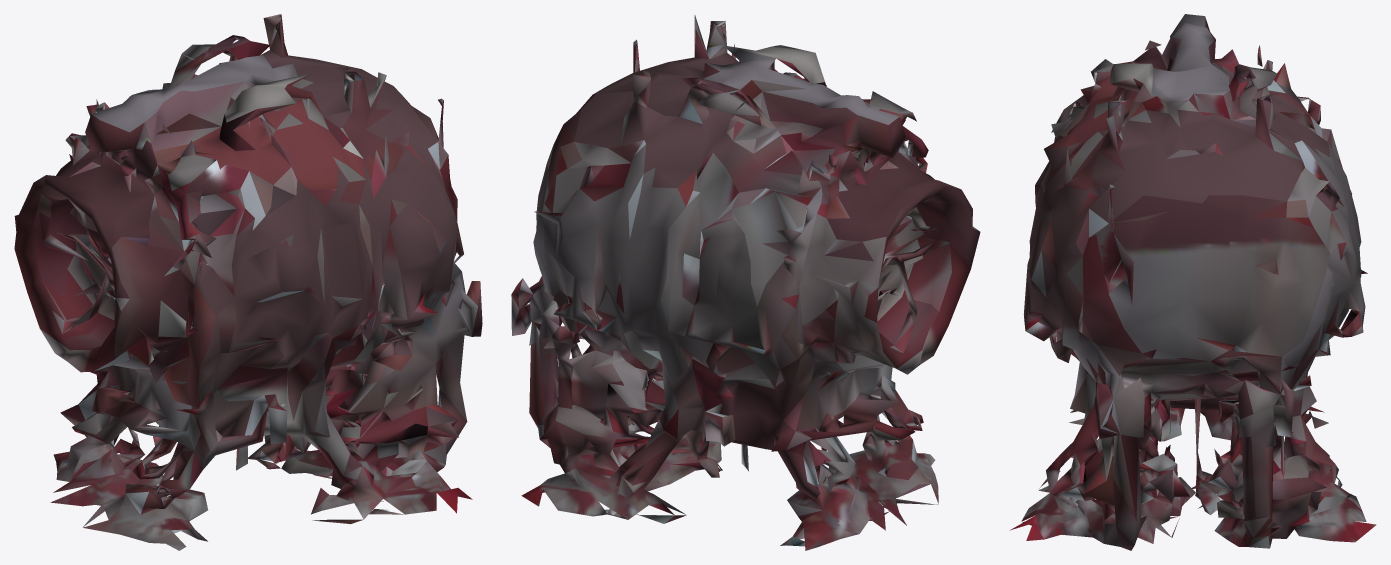
The model's file is render_crawler.glb.
The picture shows the model from 3 angles, left to right: view 1: azimuth 30°, elevation 25°; view 2: azimuth 150°, elevation 25°; view 3: azimuth 270°, elevation 25°; orthographic projection.
Visible parts, largest first — view 1: LP_baked; view 2: LP_baked; view 3: LP_baked.
Boxes of the visible parts, box(x1,y1,x2,y2) form: LP_baked: box(14, 14, 482, 550); LP_baked: box(511, 15, 980, 550); LP_baked: box(1010, 14, 1376, 550).
Bounding box in the file's own units: 1.83 × 1.97 × 1.59.
1 material, 1 textured.
